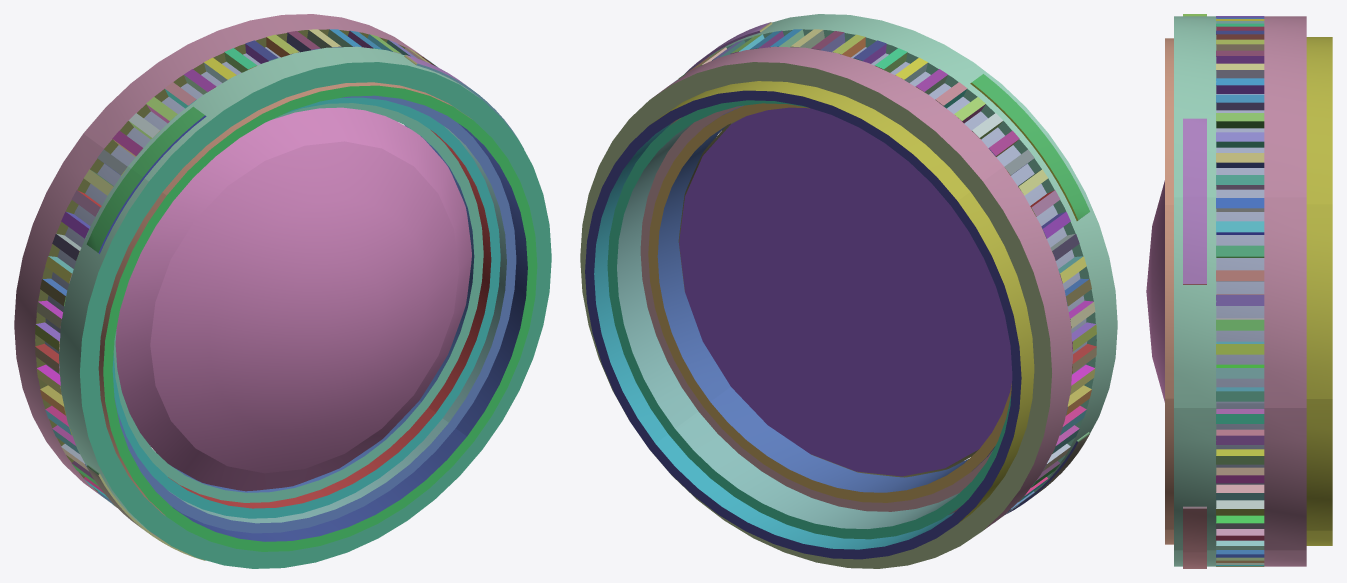
Rendered from module-renderer-01.glb.
3 renders of one model, left to right at view 1: azimuth 30°, elevation 25°; view 2: azimuth 150°, elevation 25°; view 3: azimuth 270°, elevation 25°, orthographic.
Size of the model in its own units: 2.03 by 2.03 by 0.686.
